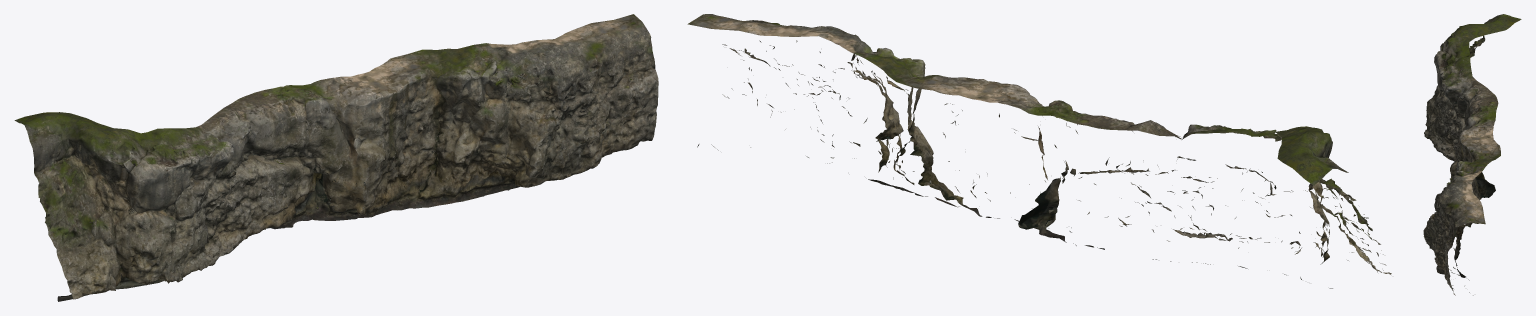
The model's file is coastal_cliff_02_lod.glb.
The picture shows the model from 3 angles, left to right: view 1: azimuth 30°, elevation 25°; view 2: azimuth 150°, elevation 25°; view 3: azimuth 270°, elevation 25°; orthographic projection. The views are drawn at different scales.
Parts seen in each view (by area): view 1: coastal_cliff_02; view 2: coastal_cliff_02; view 3: coastal_cliff_02.
Boxes of the visible parts, x1,y1,x2,y2 form: coastal_cliff_02: (14, 14, 658, 301); coastal_cliff_02: (687, 14, 1391, 288); coastal_cliff_02: (1423, 14, 1521, 295).
Bounding box in the file's own units: 40.93 × 10.05 × 8.65.
Materials: 1 (1 with a texture image).
